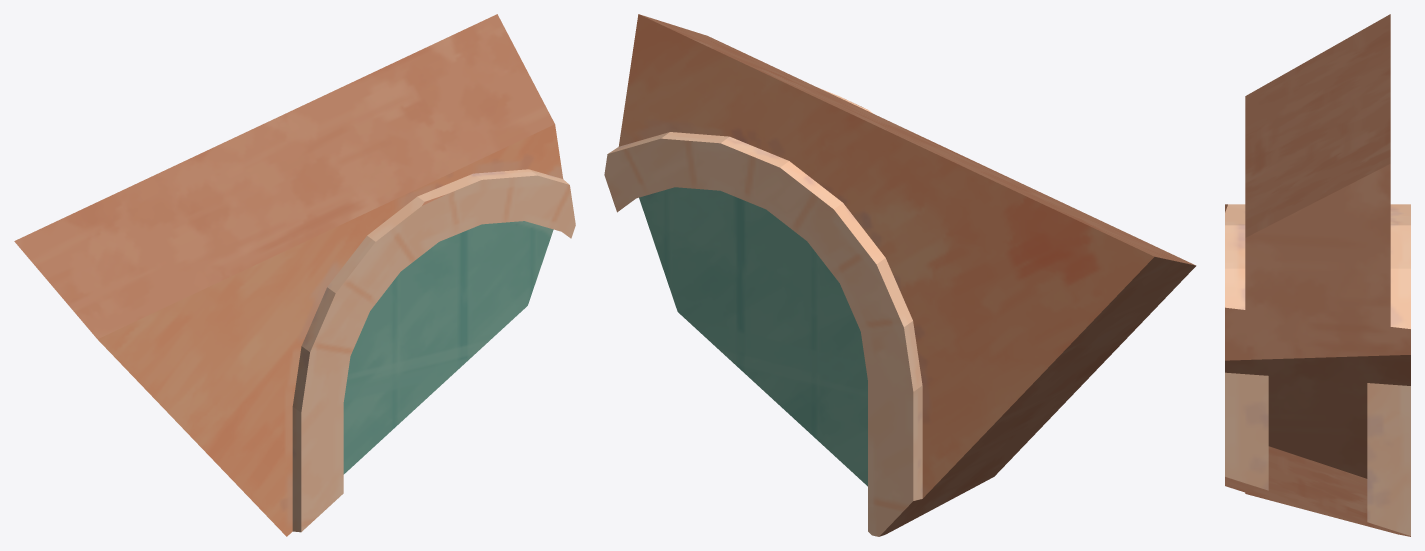
File: wall2_upper_shutter_s04.fbx
The picture shows the model from 3 angles, left to right: view 1: azimuth 30°, elevation 25°; view 2: azimuth 150°, elevation 25°; view 3: azimuth 270°, elevation 25°; orthographic projection. The views are drawn at different scales.
Visible parts, largest first — view 1: wall2_upper_shutter_s04; view 2: wall2_upper_shutter_s04; view 3: wall2_upper_shutter_s04.
Part boxes in pixels (x1,y1,x2,y2): wall2_upper_shutter_s04: (14, 14, 575, 536); wall2_upper_shutter_s04: (604, 14, 1196, 536); wall2_upper_shutter_s04: (1225, 14, 1410, 536).
Size of the model in its own units: 4.77 by 3.85 by 1.28.
